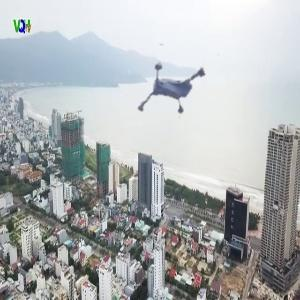drone: (137, 38, 222, 123)
